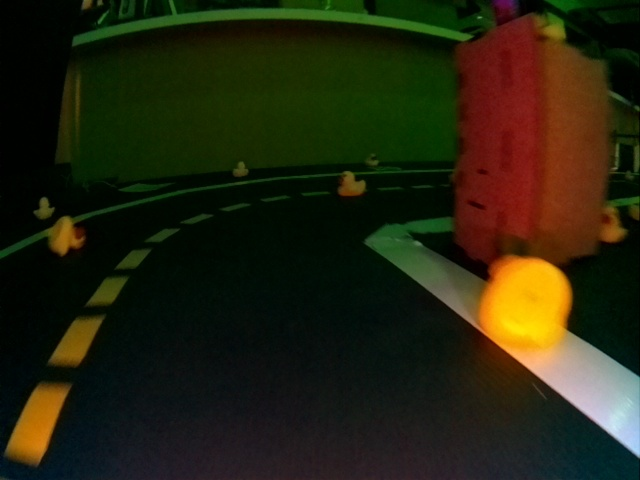Duckie: (479, 256, 569, 345), (50, 218, 86, 256), (603, 206, 627, 243), (339, 171, 365, 196), (35, 198, 54, 219), (234, 162, 248, 177), (367, 155, 378, 165)
